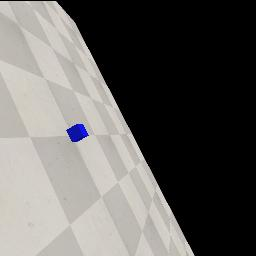box: (66, 124, 89, 142)
